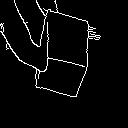cube: (18, 8, 111, 108)
